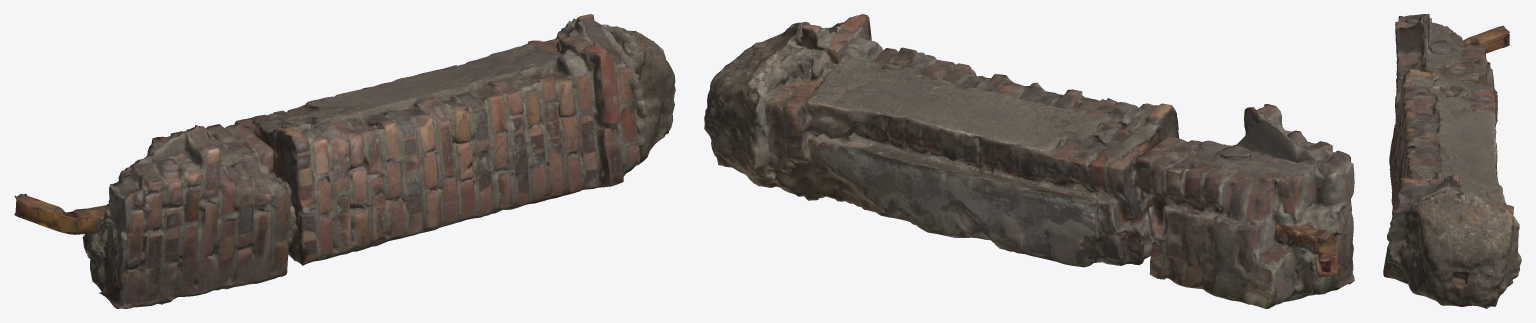
File: PX_Brick_Ruins_21_LOD0.fbx
3 renders of one model, left to right at view 1: azimuth 30°, elevation 25°; view 2: azimuth 150°, elevation 25°; view 3: azimuth 270°, elevation 25°, orthographic. The views are drawn at different scales.
Visible parts, largest first — view 1: PX_Brick_Ruins_21_LOD0; view 2: PX_Brick_Ruins_21_LOD0; view 3: PX_Brick_Ruins_21_LOD0.
Boxes of the visible parts, x1,y1,x2,y2 form: PX_Brick_Ruins_21_LOD0: (14, 14, 675, 308); PX_Brick_Ruins_21_LOD0: (704, 14, 1354, 308); PX_Brick_Ruins_21_LOD0: (1383, 14, 1521, 308).
Bounding box in the file's own units: 260 × 64.06 × 63.73.
1 material, 1 textured.
